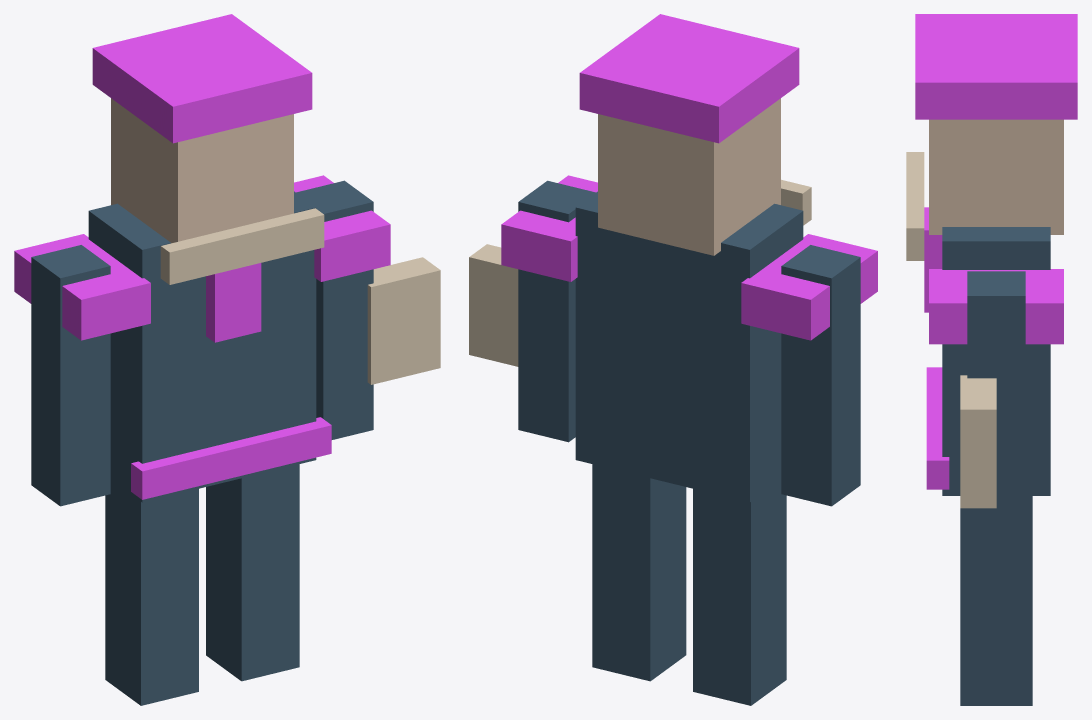
The model's file is 01_korra_riftwalker_tamer_of_hidden.glb.
3 renders of one model, left to right at view 1: azimuth 30°, elevation 25°; view 2: azimuth 150°, elevation 25°; view 3: azimuth 270°, elevation 25°, orthographic.
Parts seen in each view (by area): view 1: Korra Riftwalker, Tamer of Hidden; view 2: Korra Riftwalker, Tamer of Hidden; view 3: Korra Riftwalker, Tamer of Hidden.
Boxes of the visible parts, <box> form: Korra Riftwalker, Tamer of Hidden: <box>14,14,440,705</box>; Korra Riftwalker, Tamer of Hidden: <box>469,14,877,705</box>; Korra Riftwalker, Tamer of Hidden: <box>906,14,1077,705</box>.
Size of the model in its own units: 0.9539 by 1.48 by 0.3718.
